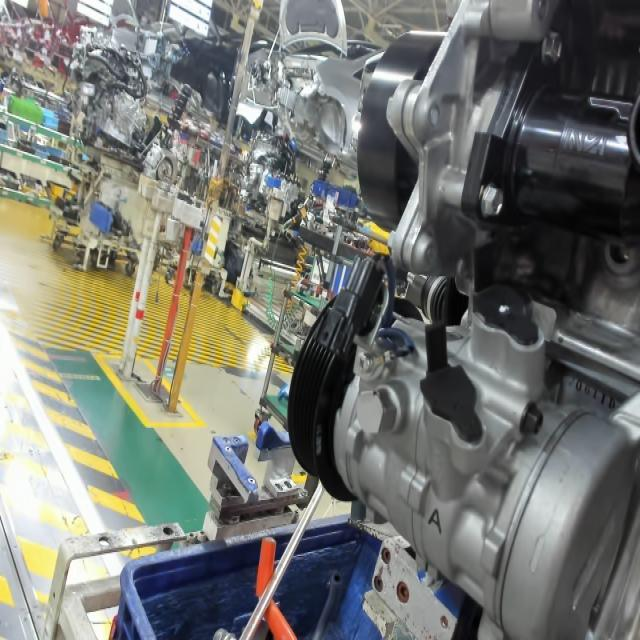Compressor-A: (426, 506, 444, 536)
